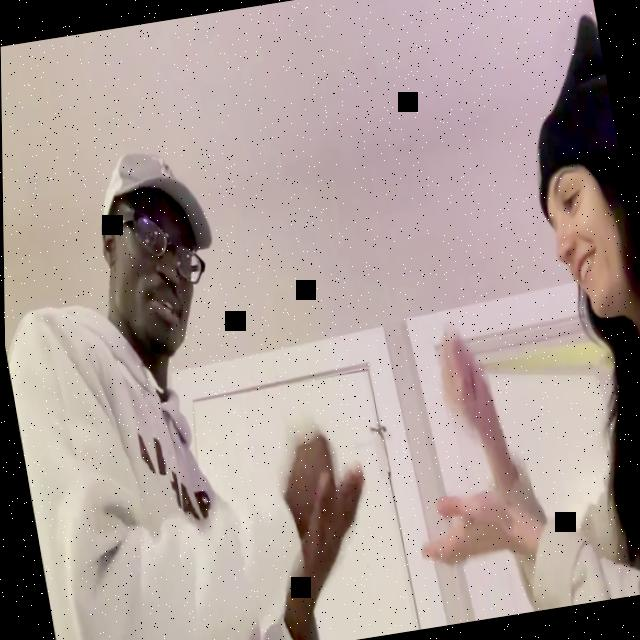Rock: (429, 324, 495, 438), (278, 429, 344, 535)
